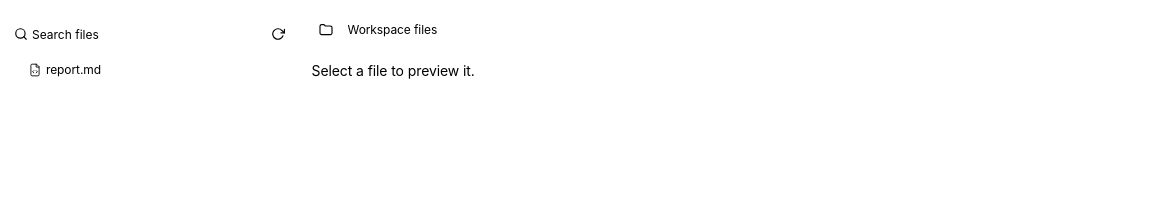
Test: workspace source preview limits › shows explicit oversized Markdown fallback while keeping source and actions usable
This screenshot has width=1152, height=212.
Click the text with class "workspace-files__name".
click(74, 69)  # box [46, 62, 101, 77]
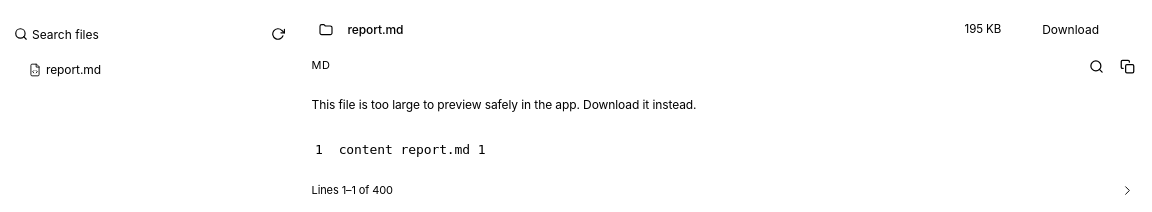
Expected: the message with class "workspace-file__status" shows "too large", [312, 97, 696, 112]
Expected: the element with class "workspace-file__source" is shown, [315, 142, 486, 157]
Expected: the element with class "workspace-resource-actions" is shown, [1009, 16, 1140, 44]
